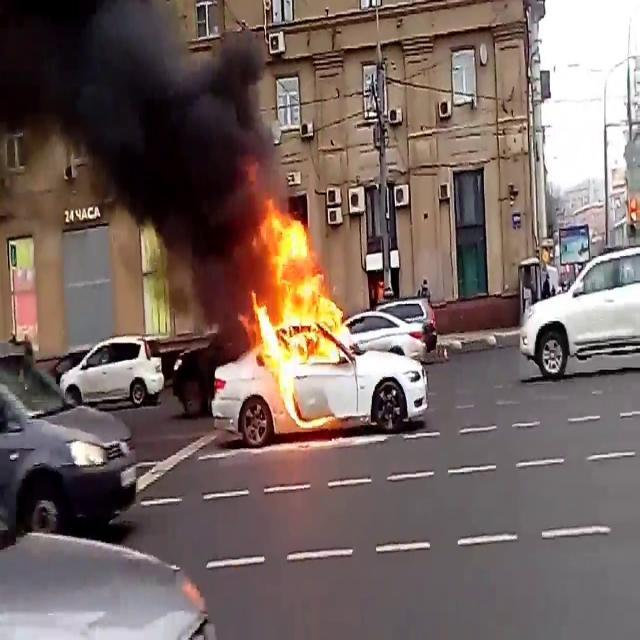Fire: (244, 198, 354, 412)
Smoke: (0, 0, 280, 323)
